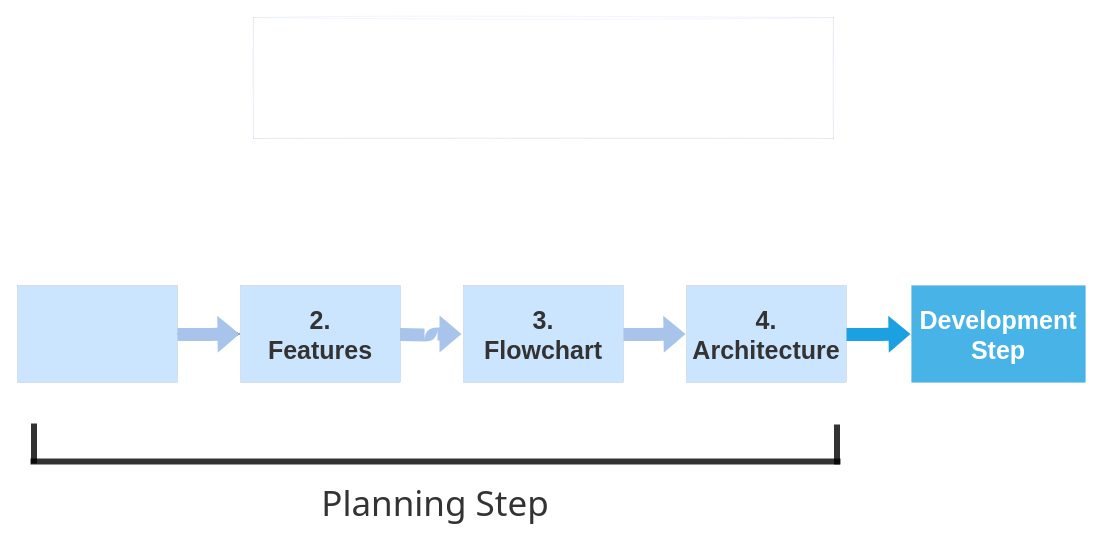
Image size: 1102x542. Some labels were removed from this diagram. The centre of each missing label's shape, as x and y in pixels:
1. User stories: [97,333]
Mapty App - Planning: [543,77]
